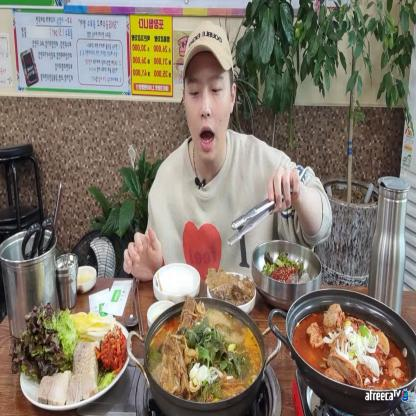streamer: (123, 23, 333, 284)
